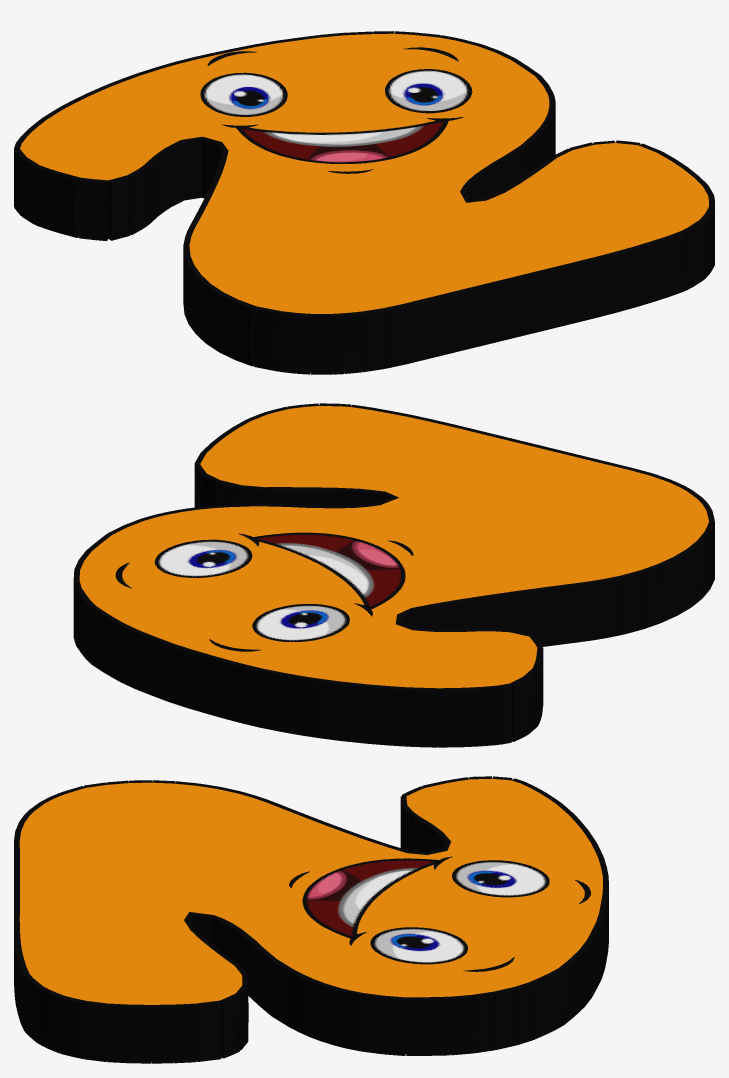
The model's file is number 2.fbx.
3 renders of one model, top to bottom at view 1: azimuth 30°, elevation 25°; view 2: azimuth 150°, elevation 25°; view 3: azimuth 270°, elevation 25°, orthographic. The views are drawn at different scales.
Parts seen in each view (by area): view 1: Text.016; view 2: Text.016; view 3: Text.016.
Part boxes in pixels (bbox=[...]): Text.016: bbox=[14, 31, 714, 374]; Text.016: bbox=[73, 403, 714, 747]; Text.016: bbox=[14, 776, 608, 1063].
Size of the model in its own units: 57.8 by 6.92 by 72.29.
Materials: 3 (1 with a texture image).
